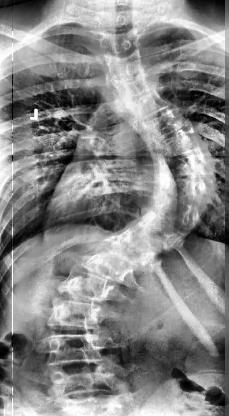Vertebrae: (44, 364, 120, 402), (52, 266, 124, 306), (72, 245, 142, 285), (42, 332, 110, 368), (128, 106, 198, 140), (44, 298, 110, 334), (144, 195, 208, 232), (124, 214, 186, 252), (94, 232, 161, 266), (112, 88, 178, 122), (154, 173, 218, 207), (153, 150, 221, 178), (148, 127, 209, 158), (94, 50, 150, 80), (101, 70, 159, 96), (90, 11, 144, 33), (94, 30, 142, 54)
